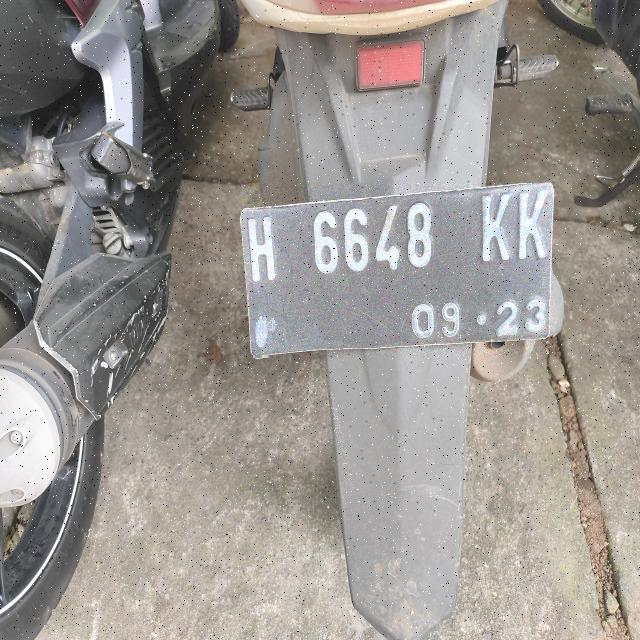plate: (241, 184, 553, 358)
